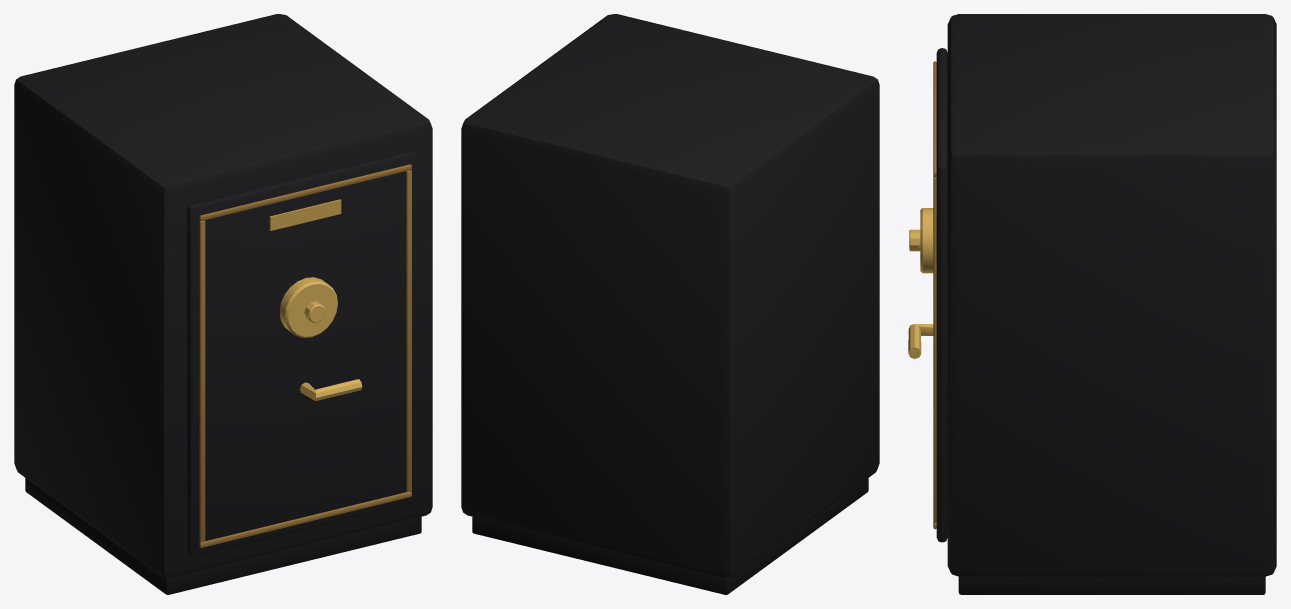
Rendered from meridian_safe.glb.
The picture shows the model from 3 angles, left to right: view 1: azimuth 30°, elevation 25°; view 2: azimuth 150°, elevation 25°; view 3: azimuth 270°, elevation 25°; orthographic projection. The views are drawn at different scales.
Visible parts, largest first — view 1: meridian_safe; view 2: meridian_safe; view 3: meridian_safe.
Part boxes in pixels (bbox=[...]): meridian_safe: bbox=[14, 14, 432, 594]; meridian_safe: bbox=[461, 14, 879, 594]; meridian_safe: bbox=[908, 14, 1276, 594].
Size of the model in its own units: 0.62 by 0.9 by 0.672.
